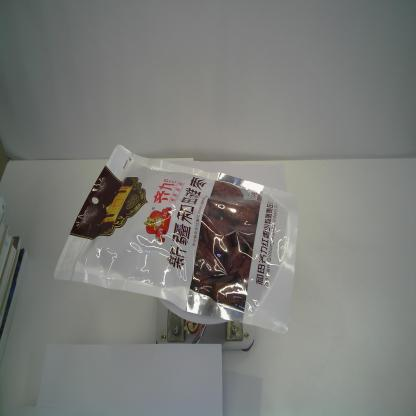Dried Food: (52, 142, 301, 336)
